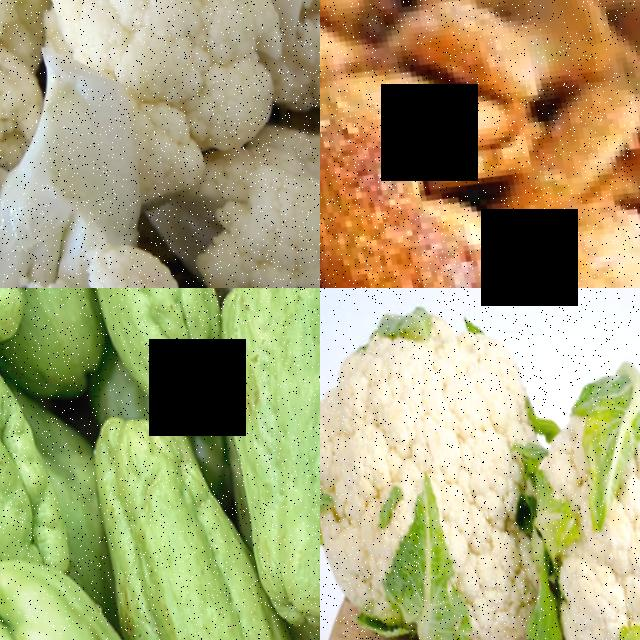cashew: (320, 86, 503, 288)
cauliflower: (320, 288, 596, 640), (0, 41, 258, 288), (494, 308, 640, 640), (175, 60, 320, 288), (92, 0, 304, 133), (0, 0, 87, 213)
chayote: (68, 387, 292, 640), (186, 288, 320, 630), (70, 288, 225, 406), (0, 547, 139, 640), (0, 340, 49, 595)
